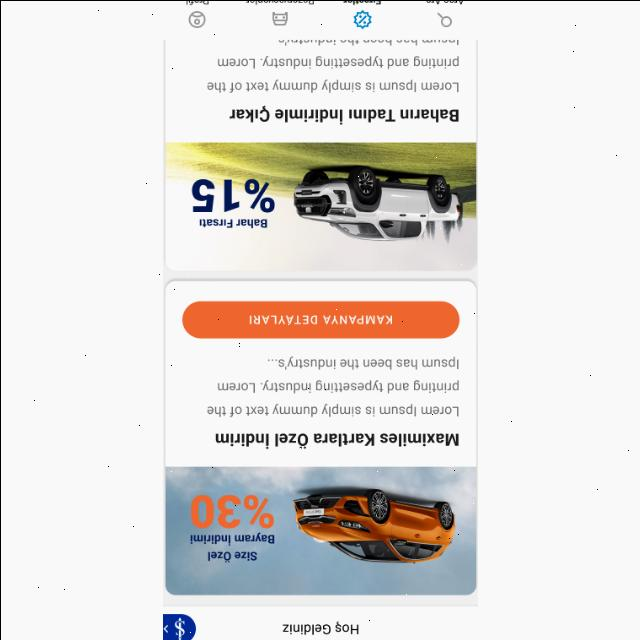QLabel: (205, 353, 463, 421), (205, 38, 463, 96), (214, 428, 462, 449), (226, 106, 462, 122), (246, 311, 396, 327), (279, 621, 363, 637), (246, 0, 316, 6), (342, 0, 382, 6), (426, 0, 464, 6), (184, 0, 212, 6)
VAppBar: (162, 606, 478, 640)
VBottomNavigation: (162, 0, 478, 38)
VBtn: (182, 300, 458, 338)
VCard: (164, 279, 476, 593), (166, 38, 477, 272)
VIcon: (186, 9, 210, 29), (351, 8, 373, 28), (269, 9, 293, 27), (434, 9, 456, 27)
VImg: (168, 142, 472, 268), (168, 466, 472, 590), (162, 612, 195, 640)
